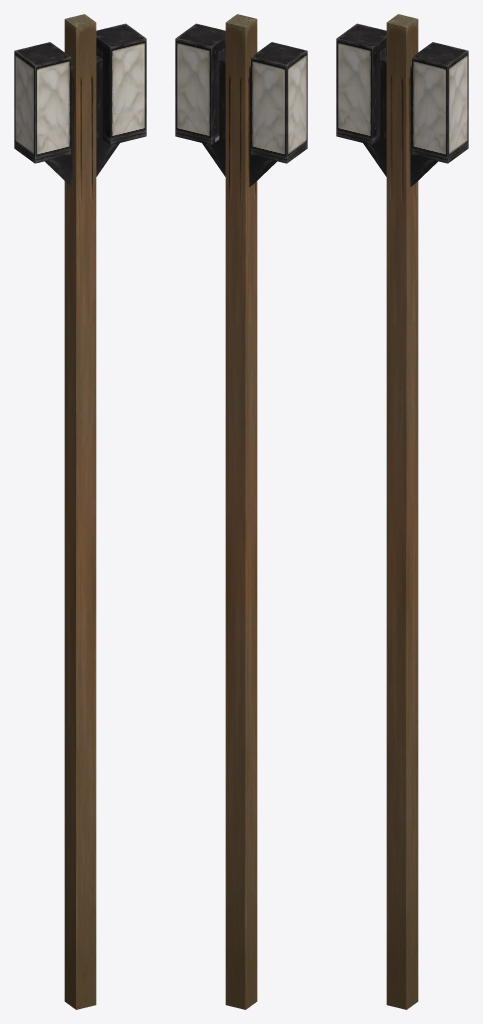
Rendered from mun_all_imprv_streetlamp_lg_s02_l1.fbx.
3 views of the same model, side by side, from view 1: azimuth 30°, elevation 25°; view 2: azimuth 150°, elevation 25°; view 3: azimuth 330°, elevation 25° (orthographic).
Visible parts, largest first — view 1: mesh_node; view 2: mesh_node; view 3: mesh_node.
Part boxes in pixels (bbox=[...]): mesh_node: bbox=[14, 14, 146, 1009]; mesh_node: bbox=[175, 14, 307, 1009]; mesh_node: bbox=[336, 14, 468, 1009].
Size of the model in its own units: 0.4806 by 4.04 by 0.155.
